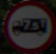Heavy Vehicles: (6, 5, 49, 43)
